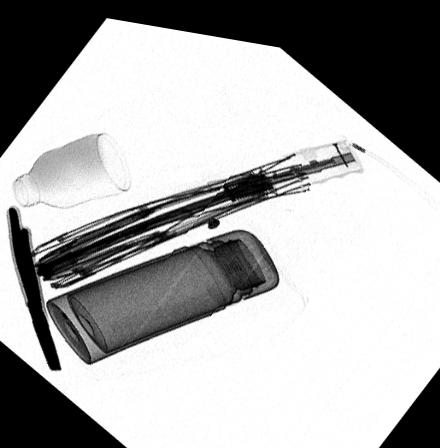Pliers: (7, 206, 65, 368)
